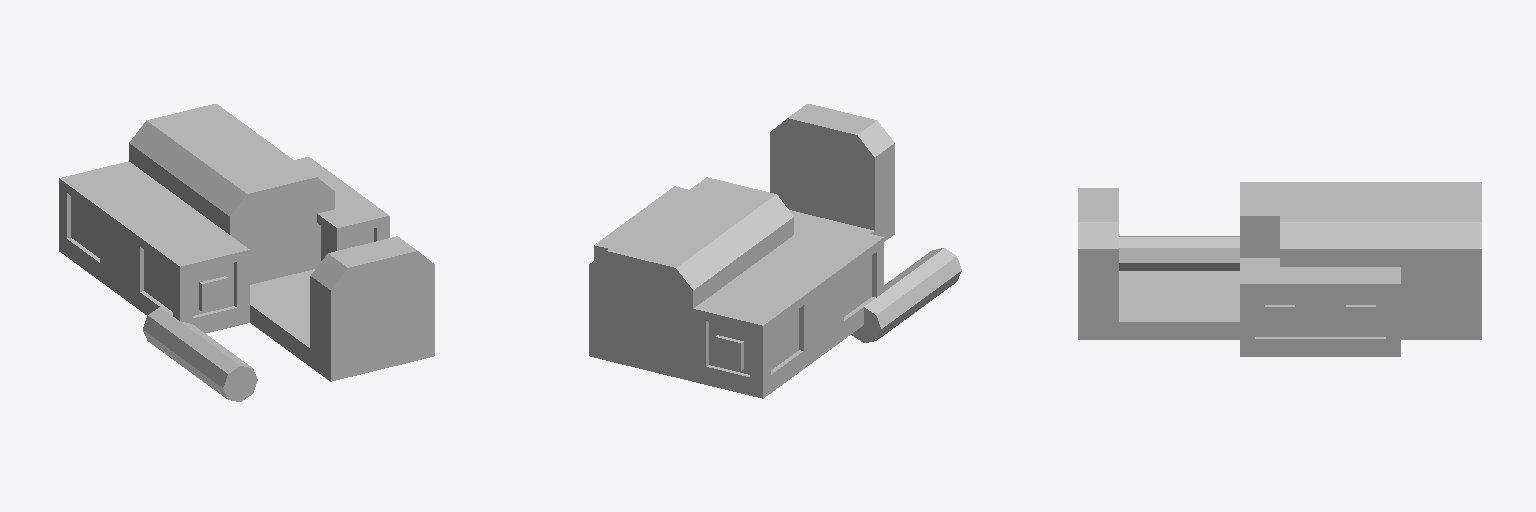
Rendered from rollingmachine.obj.
The picture shows the model from 3 angles: view 1: azimuth 30°, elevation 25°; view 2: azimuth 150°, elevation 25°; view 3: azimuth 270°, elevation 25°; orthographic projection.
Parts seen in each view (by area): view 1: Hull, roller_3; view 2: Hull, roller_3; view 3: Hull, roller_3.
Boxes of the visible parts, x1=… form: Hull: x1=59, y1=104, x2=434, y2=381; roller_3: x1=143, y1=307, x2=257, y2=401; Hull: x1=589, y1=104, x2=894, y2=398; roller_3: x1=851, y1=248, x2=961, y2=342; Hull: x1=1078, y1=182, x2=1481, y2=356; roller_3: x1=1119, y1=236, x2=1239, y2=270.
Size of the model in its own units: 3.25 by 1.75 by 5.